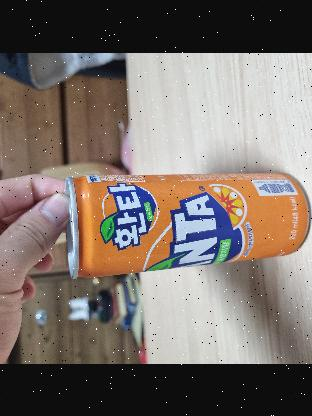Can: (65, 169, 310, 277)
